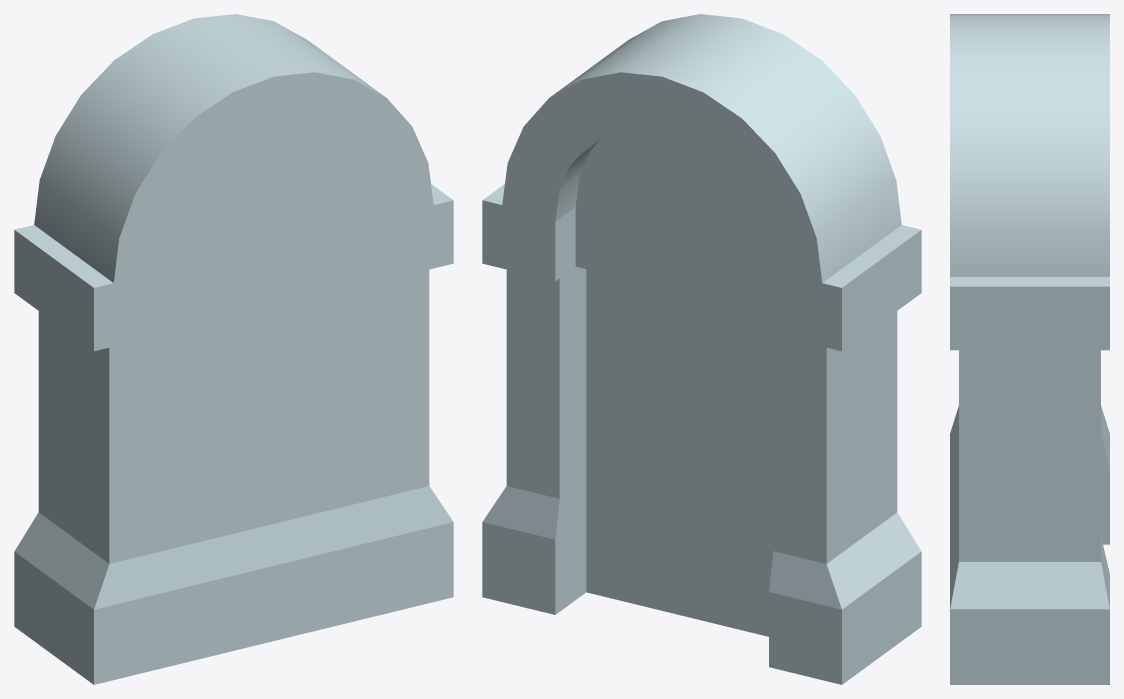
The model's file is gravestoneRound.glb.
The picture shows the model from 3 angles, left to right: view 1: azimuth 30°, elevation 25°; view 2: azimuth 150°, elevation 25°; view 3: azimuth 270°, elevation 25°; orthographic projection.
Visible parts, largest first — view 1: gravestoneRound; view 2: gravestoneRound; view 3: gravestoneRound.
Part boxes in pixels (x1,y1,x2,y2): gravestoneRound: [14, 14, 453, 684]; gravestoneRound: [482, 14, 921, 684]; gravestoneRound: [950, 14, 1109, 684].
Size of the model in its own units: 0.39 by 0.585 by 0.1495.
